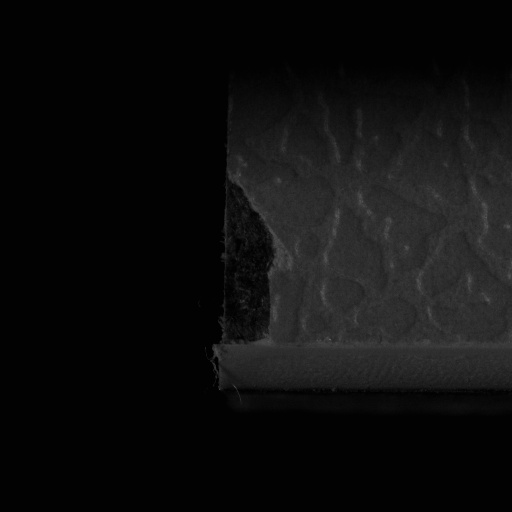bengque: (215, 171, 285, 347)
